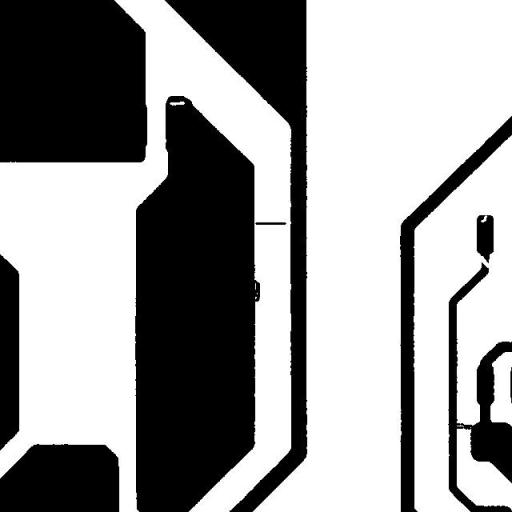copper: (247, 214, 294, 232)
mousebite: (473, 207, 494, 230)
open: (467, 248, 498, 275)
pin-hole: (162, 94, 192, 112)
short: (446, 415, 486, 438)
spur: (244, 272, 267, 309)
